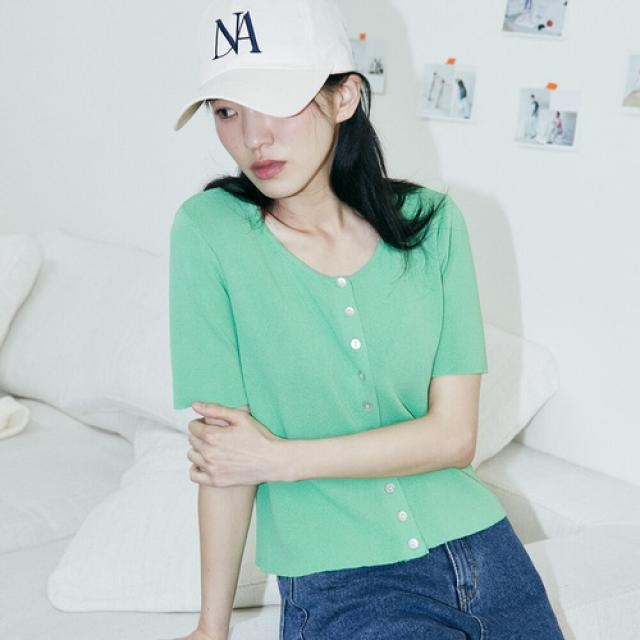dress: (171, 181, 512, 579)
